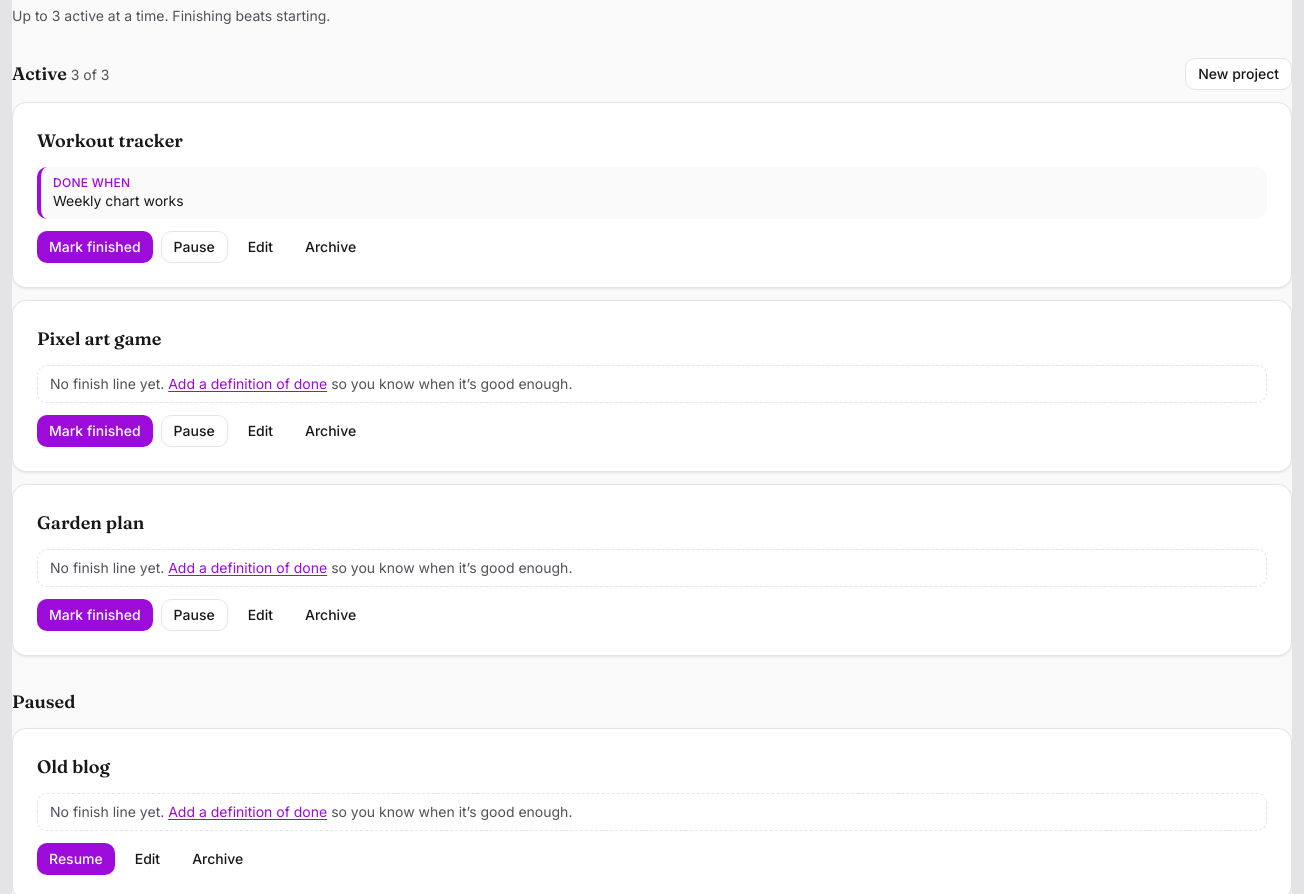
it: ProjectsPage › at the 3-project limit › does not resume a paused project and says why
(page scrolled)
Step 1. Click the button "Resume" → click(76, 859), box [37,843,115,875]
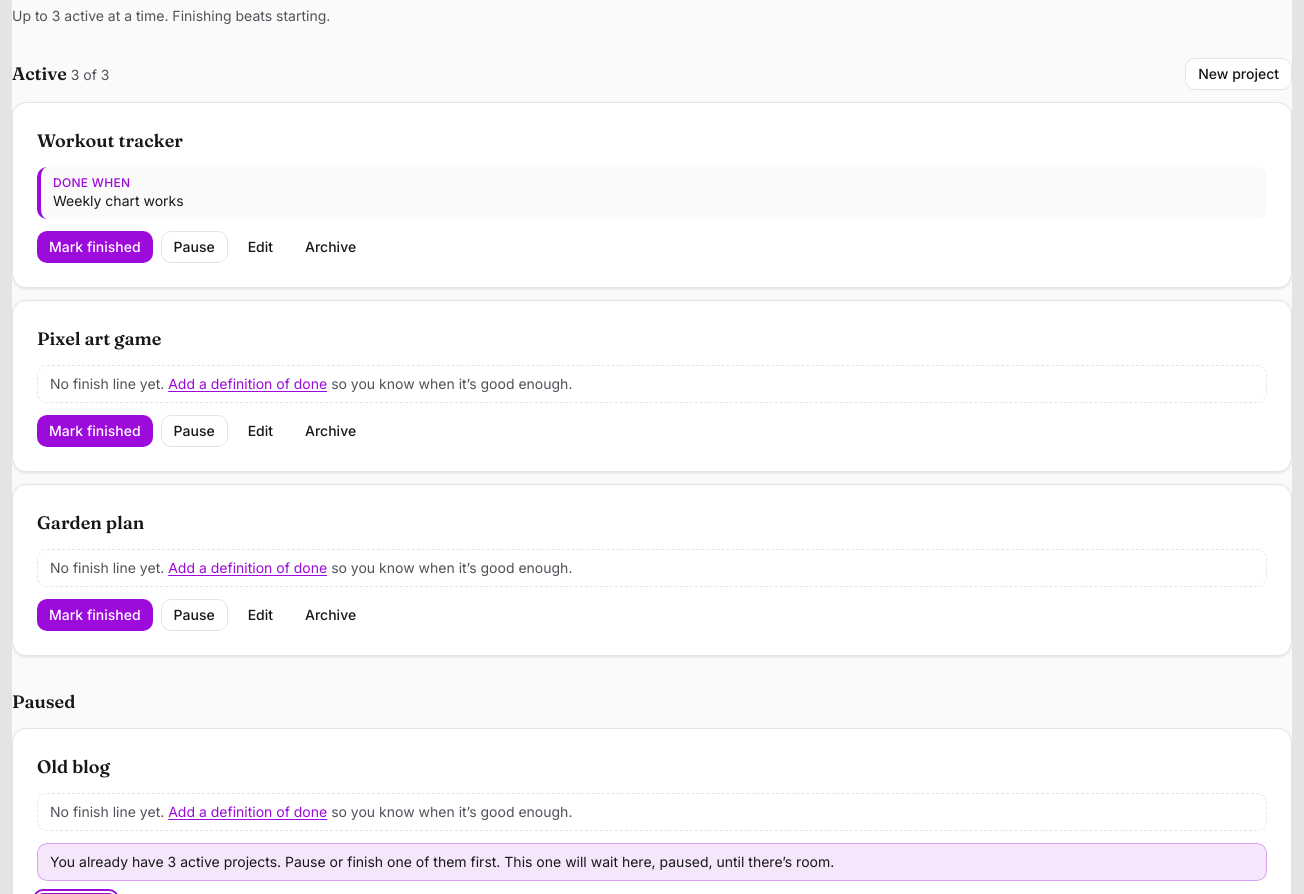
Expected: the message shows "Pause or finish one of them first", [50,853,834,870]
